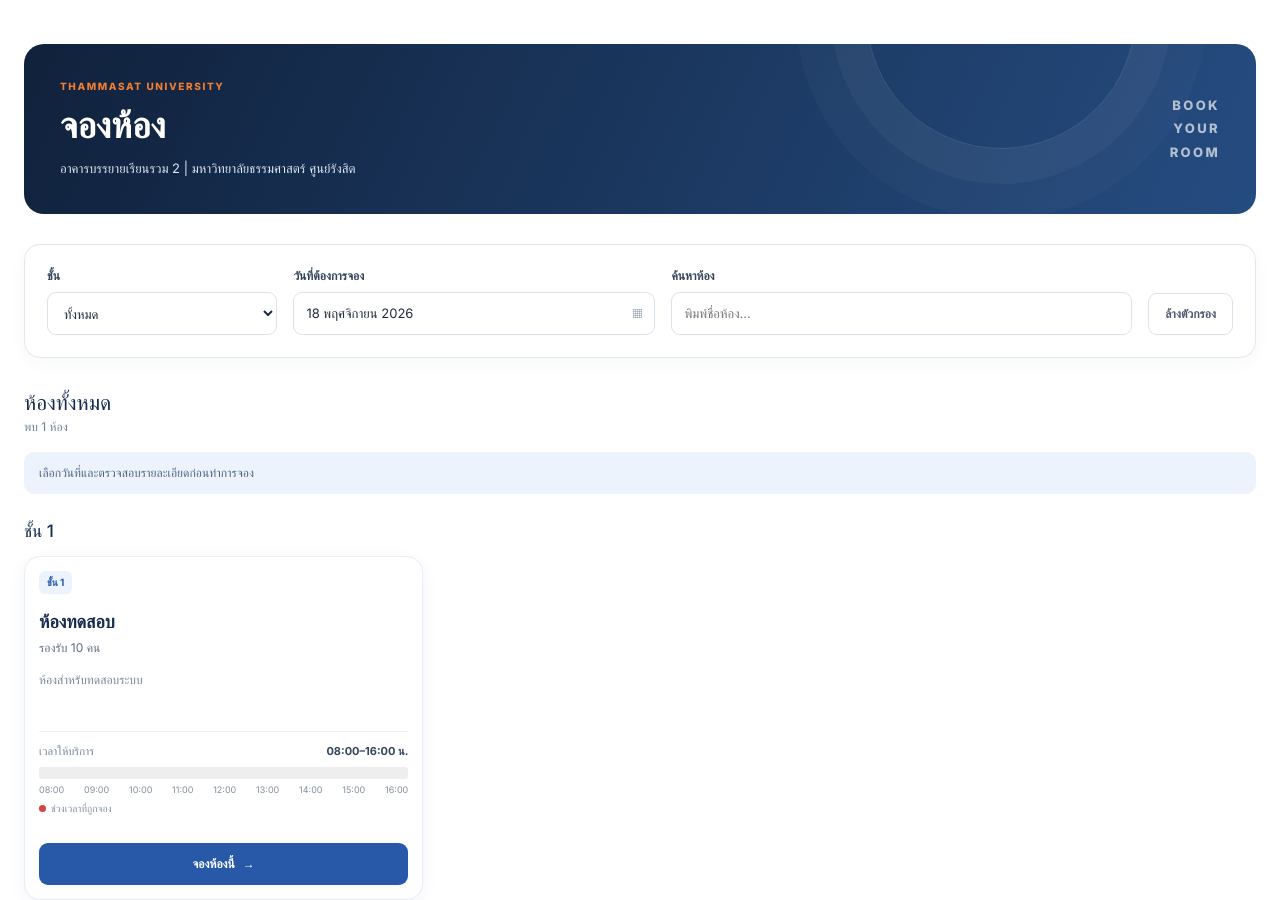
Test: Homepage account suspension popup › แสดง Popup เมื่อ Backend แจ้งว่า ACCOUNT_SUSPENDED
The width and height of the screenshot is (1280, 900).
Click the button with class "book-room-button" at x=224, y=864, box [39, 843, 408, 885]
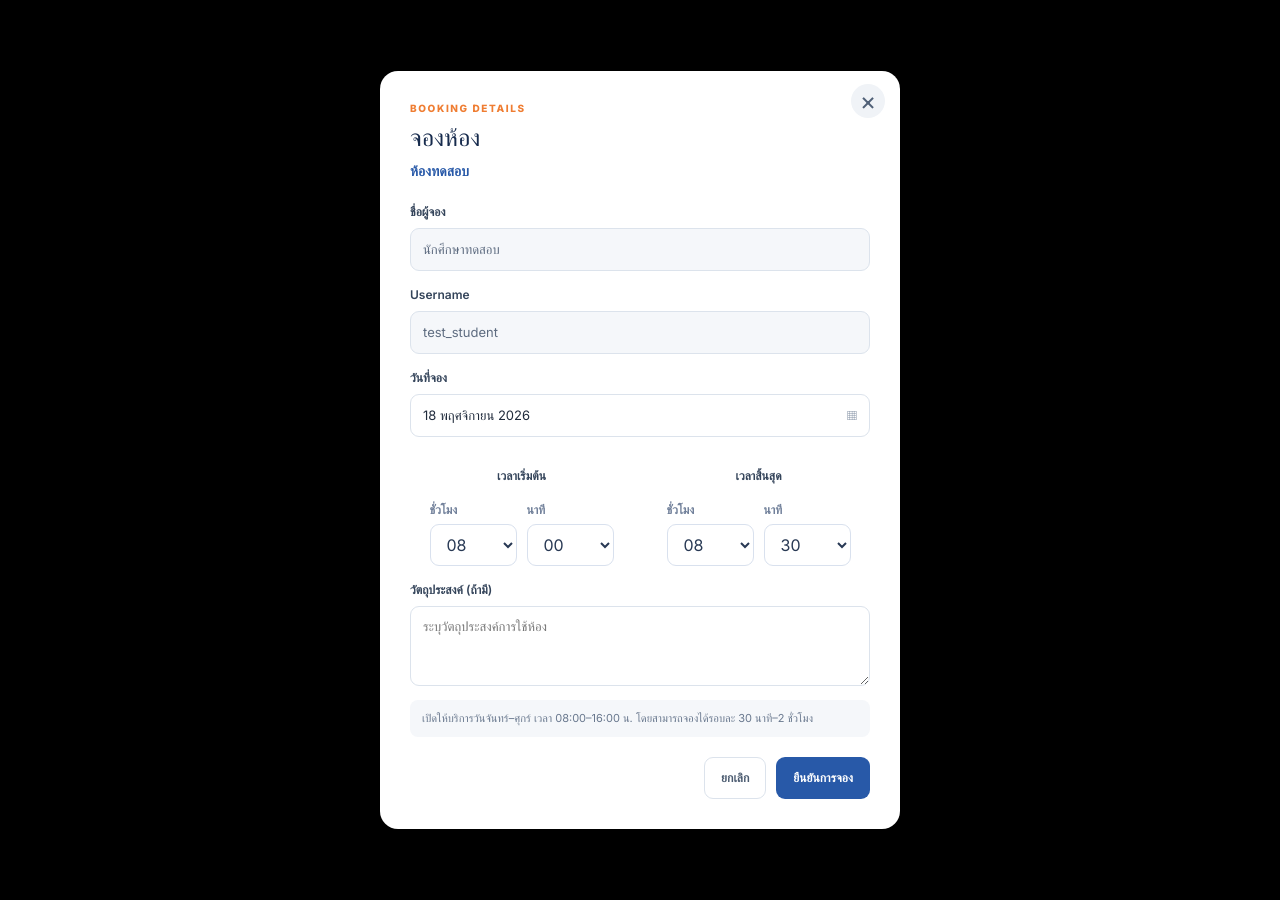
Now the form with id "bookingForm" is shown
Submit the form with id "bookingForm", box [410, 203, 870, 799]
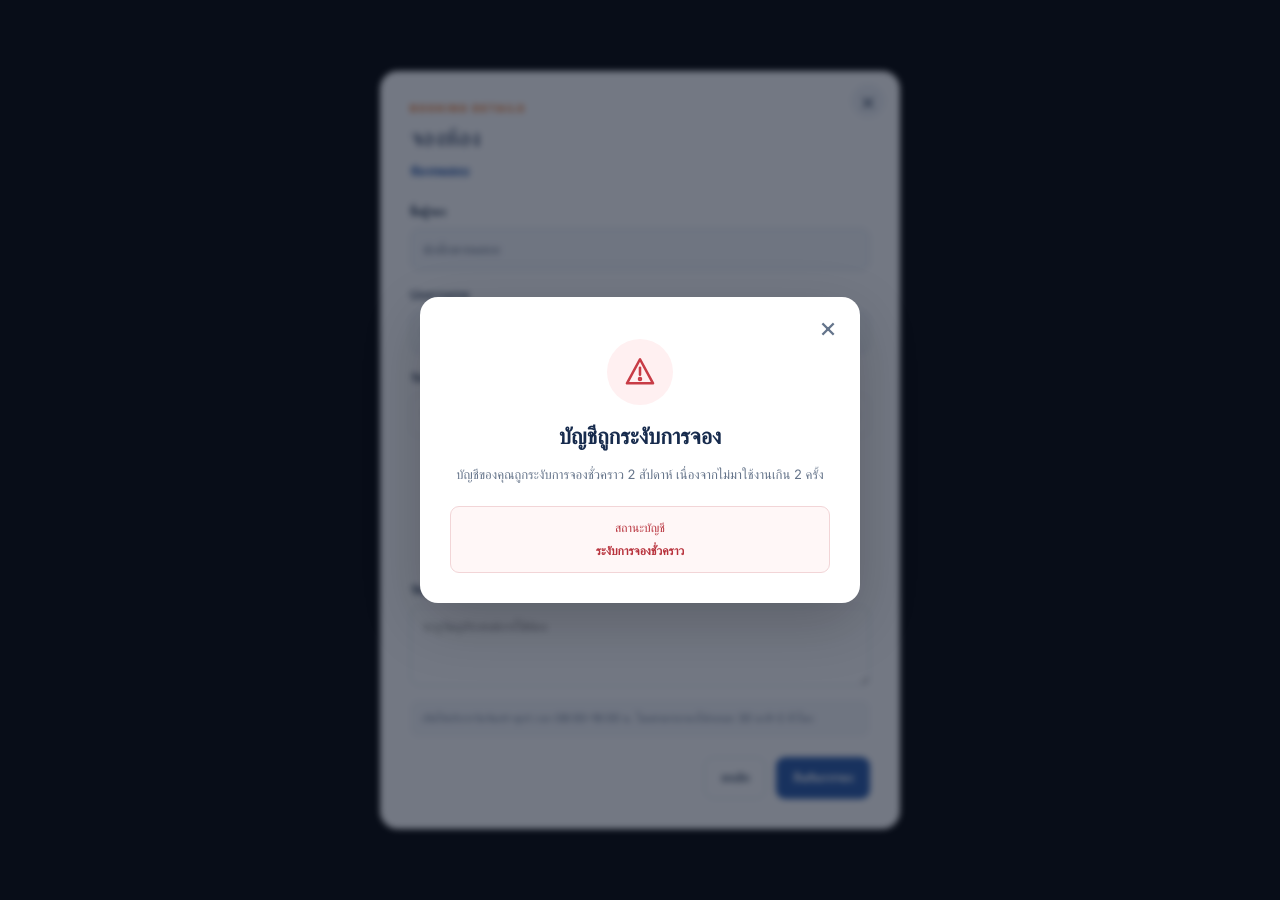
Now the dialog is shown, box [420, 297, 860, 603]
Now the text "บัญชีของคุณถูกระงับการจองชั่วคราว 2 สัปดาห์ เนื่องจากไม่มาใช้งานเกิน 2 ครั้ง" is shown, box [450, 463, 830, 486]
